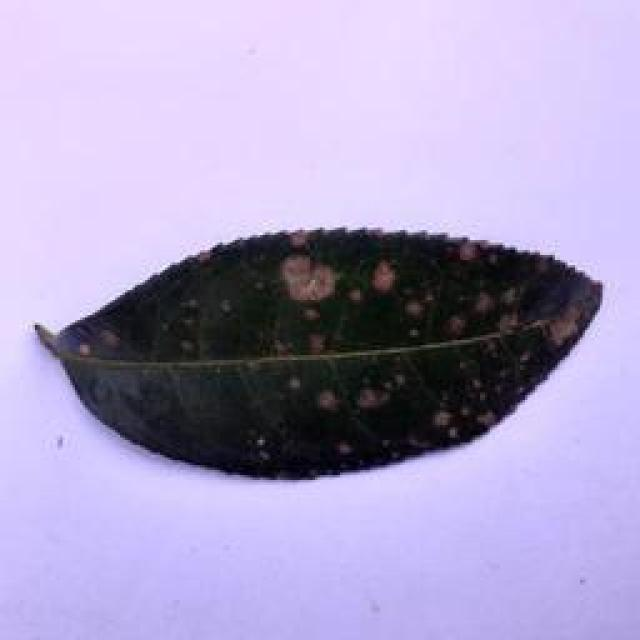Algal Leaf Spot: (45, 220, 599, 479)
